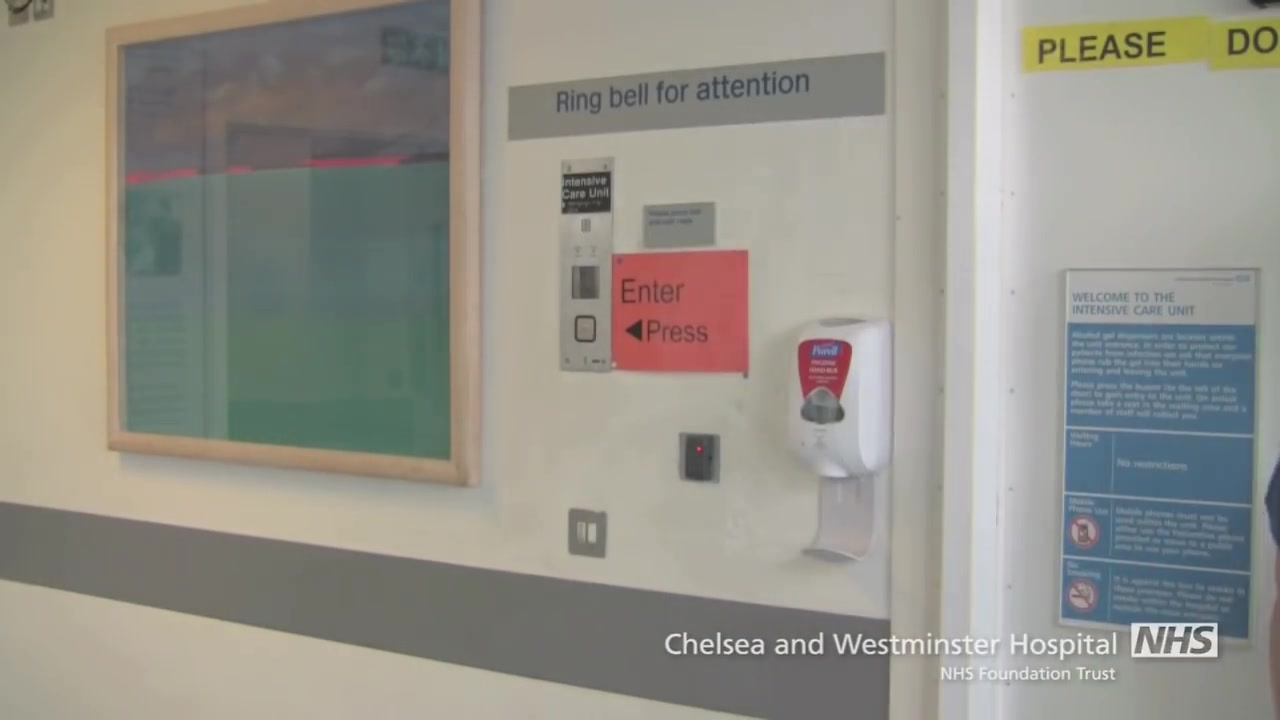dispenser: (787, 312, 893, 564)
light_switch: (567, 507, 609, 559)
